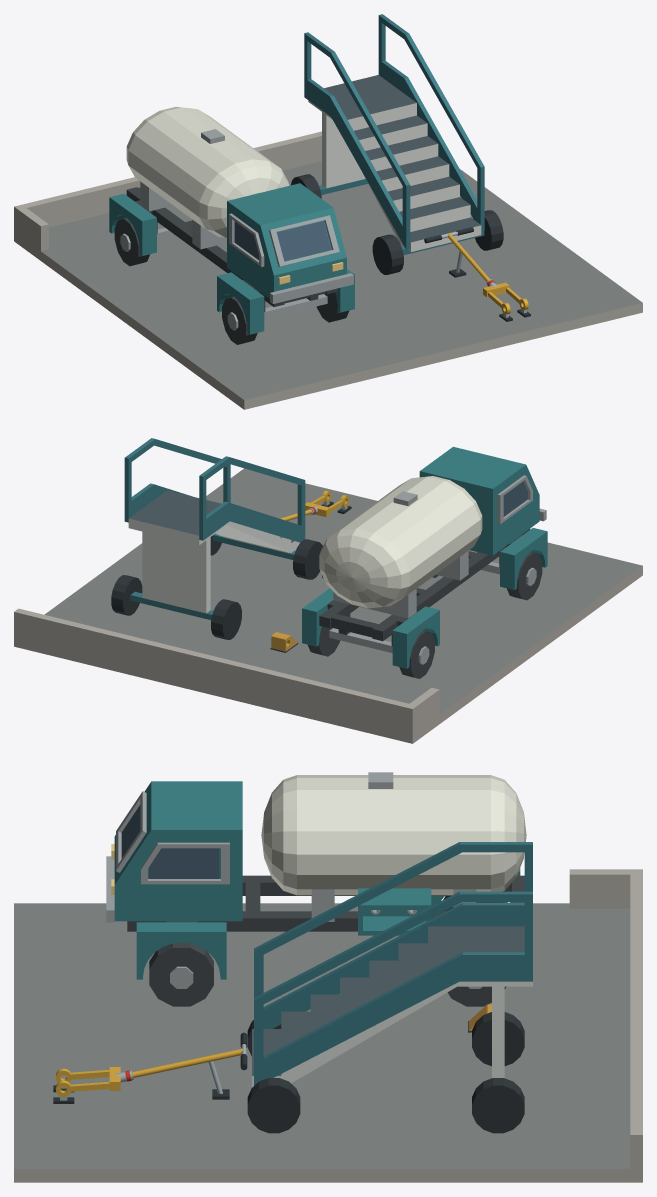
3 renders of one model, top to bottom at view 1: azimuth 30°, elevation 25°; view 2: azimuth 150°, elevation 25°; view 3: azimuth 270°, elevation 25°, orthographic. The views are drawn at different scales.
Visible parts, largest first — view 1: SCENE_ONLY__ServiceApronAndLowEdges, tanker__ContinuousRoundedEndTank, stair__ContinuousSevenLevelStairAndLanding, tanker__OriginalShortCab, stair__LeftContinuousOpenSideFrame, stair__RightContinuousOpenSideFrame, stair__RearFullWidthBearer, tanker__Arch_1_0, tanker__Arch_0_0, tanker__Rail_0, tanker__FrontWindshield_RecessedPane, tanker__FrontBumper (+8 smaller); view 2: SCENE_ONLY__ServiceApronAndLowEdges, tanker__ContinuousRoundedEndTank, tanker__OriginalShortCab, stair__RearFullWidthBearer, stair__ContinuousSevenLevelStairAndLanding, stair__LeftContinuousOpenSideFrame, stair__RightContinuousOpenSideFrame, tanker__Rail_0, tanker__Arch_0_0, tanker__Arch_1_0, tanker__Arch_1_1, stair__RearLeftFlatBottomWheel (+14 smaller); view 3: SCENE_ONLY__ServiceApronAndLowEdges, tanker__ContinuousRoundedEndTank, tanker__OriginalShortCab, stair__RightContinuousOpenSideFrame, stair__ContinuousSevenLevelStairAndLanding, stair__LeftContinuousOpenSideFrame, tanker__Wheel_0_1, tanker__Arch_0_1, stair__FrontRightFlatBottomWheel, stair__RearRightFlatBottomWheel, tanker__RecessedServiceCabinet, tanker__Rail_1 (+9 smaller).
Boxes of the visible parts, x1,y1,x2,y2 form: SCENE_ONLY__ServiceApronAndLowEdges: (14,131,642,409); tanker__ContinuousRoundedEndTank: (126,107,289,237); stair__ContinuousSevenLevelStairAndLanding: (308,75,481,251); tanker__OriginalShortCab: (227,183,346,298); stair__LeftContinuousOpenSideFrame: (304,32,410,249); stair__RightContinuousOpenSideFrame: (378,14,484,231); stair__RearFullWidthBearer: (322,112,365,188); tanker__Arch_1_0: (109,193,156,255); tanker__Arch_0_0: (217,272,264,334); tanker__Rail_0: (126,187,284,306); tanker__FrontWindshield_RecessedPane: (276,221,331,261); tanker__FrontBumper: (270,273,353,303); SCENE_ONLY__ServiceApronAndLowEdges: (14,468,642,743); tanker__ContinuousRoundedEndTank: (319,476,482,608); tanker__OriginalShortCab: (419,446,539,555); stair__RearFullWidthBearer: (142,531,210,613); stair__ContinuousSevenLevelStairAndLanding: (128,490,299,552); stair__LeftContinuousOpenSideFrame: (199,456,305,542); stair__RightContinuousOpenSideFrame: (124,438,230,522); tanker__Rail_0: (372,528,530,641); tanker__Arch_0_0: (500,528,547,589); tanker__Arch_1_0: (392,606,439,668); tanker__Arch_1_1: (302,588,333,646); stair__RearLeftFlatBottomWheel: (211,599,241,639); SCENE_ONLY__ServiceApronAndLowEdges: (14,869,642,1182); tanker__ContinuousRoundedEndTank: (261,775,526,895); tanker__OriginalShortCab: (114,781,242,921); stair__RightContinuousOpenSideFrame: (254,891,532,1085); stair__ContinuousSevenLevelStairAndLanding: (252,926,532,1087); stair__LeftContinuousOpenSideFrame: (254,842,532,1028); tanker__Wheel_0_1: (149,942,213,1006); tanker__Arch_0_1: (136,922,226,979); stair__FrontRightFlatBottomWheel: (247,1078,300,1133); stair__RearRightFlatBottomWheel: (472,1078,524,1133); tanker__RecessedServiceCabinet: (358,888,431,935); tanker__Rail_1: (127,911,445,931).
Size of the model in its own units: 6 by 2.54 by 6.
